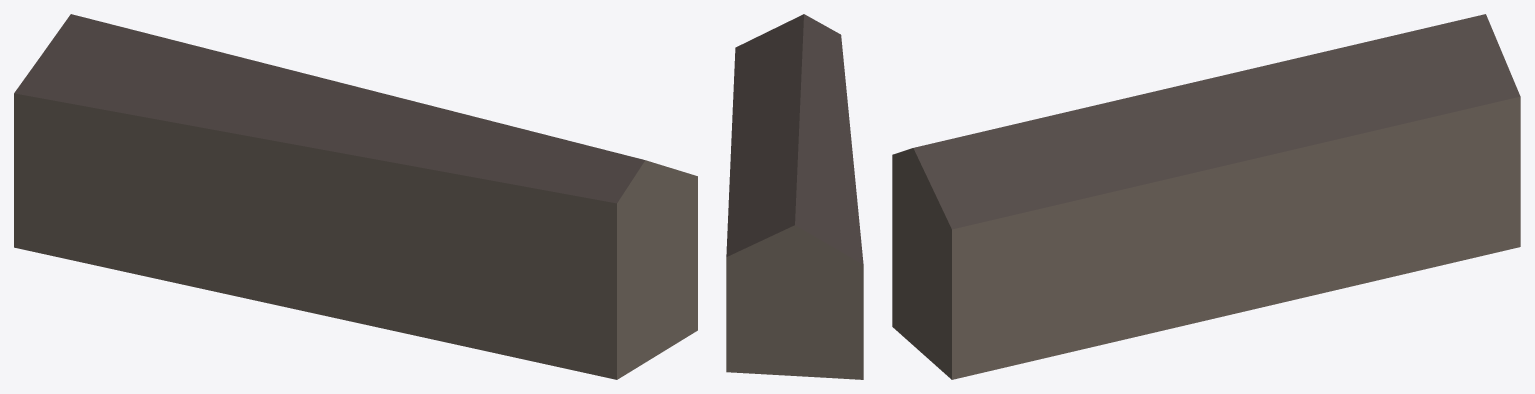
The picture shows the model from 3 angles, left to right: view 1: azimuth 30°, elevation 25°; view 2: azimuth 150°, elevation 25°; view 3: azimuth 270°, elevation 25°; orthographic projection. The views are drawn at different scales.
Parts seen in each view (by area): view 1: HP-w1516161940; view 2: HP-w1516161940; view 3: HP-w1516161940.
Boxes of the visible parts, x1=… form: HP-w1516161940: x1=14, y1=14, x2=697, y2=379; HP-w1516161940: x1=726, y1=14, x2=863, y2=379; HP-w1516161940: x1=892, y1=14, x2=1520, y2=379.
Bounding box in the file's own units: 17.43 × 7.88 × 22.7.
